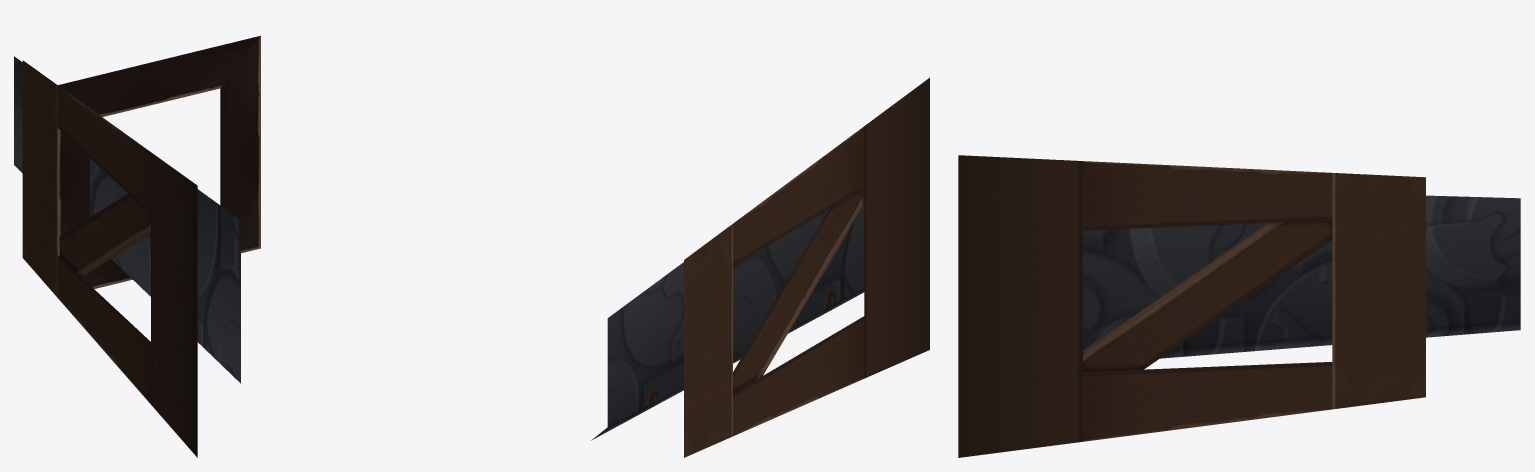
The model's file is understructure_x3.glb.
3 views of the same model, side by side, from view 1: azimuth 30°, elevation 25°; view 2: azimuth 150°, elevation 25°; view 3: azimuth 270°, elevation 25° (orthographic). The views are drawn at different scales.
Parts seen in each view (by area): view 1: clockworks.understructure_x3-MeshNodes["understructure_3w"], clockworks.understructure_x3-MeshNodes["understructure_3w_in; view 2: clockworks.understructure_x3-MeshNodes["understructure_3w"], clockworks.understructure_x3-MeshNodes["understructure_3w_in; view 3: clockworks.understructure_x3-MeshNodes["understructure_3w"], clockworks.understructure_x3-MeshNodes["understructure_3w_in.
Boxes of the visible parts, box(x1,y1,x2,y2) form: clockworks.understructure_x3-MeshNodes["understructure_3w"]: box(22, 35, 260, 457); clockworks.understructure_x3-MeshNodes["understructure_3w_in: box(14, 56, 240, 383); clockworks.understructure_x3-MeshNodes["understructure_3w"]: box(684, 77, 929, 457); clockworks.understructure_x3-MeshNodes["understructure_3w_in: box(591, 189, 864, 440); clockworks.understructure_x3-MeshNodes["understructure_3w"]: box(958, 155, 1425, 457); clockworks.understructure_x3-MeshNodes["understructure_3w_in: box(1083, 195, 1520, 358).
Bounding box in the file's own units: 3 × 3 × 5.05.
Materials: 2 (2 with a texture image).
